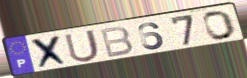6: (137, 21, 166, 51)
7: (169, 13, 196, 48)
B: (99, 25, 135, 59)
O: (202, 9, 238, 41)
U: (63, 28, 102, 64)
X: (29, 33, 70, 71)
